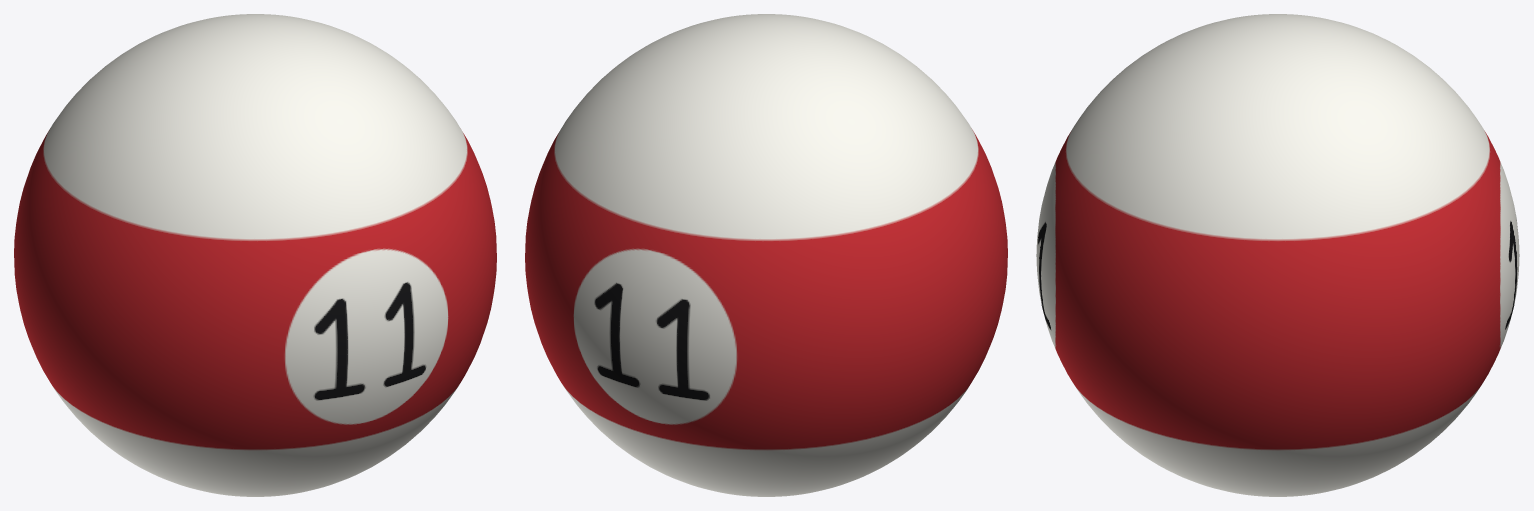
Rendered from ball-11.gltf.
3 views of the same model, side by side, from view 1: azimuth 30°, elevation 25°; view 2: azimuth 150°, elevation 25°; view 3: azimuth 270°, elevation 25° (orthographic).
Parts seen in each view (by area): view 1: Ball_11; view 2: Ball_11; view 3: Ball_11.
Part boxes in pixels (x1,y1,x2,y2): Ball_11: (14,14,496,496); Ball_11: (525,14,1007,496); Ball_11: (1036,14,1519,496).
Bounding box in the file's own units: 0.1 × 0.1 × 0.1.
Materials: 1 (1 with a texture image).
